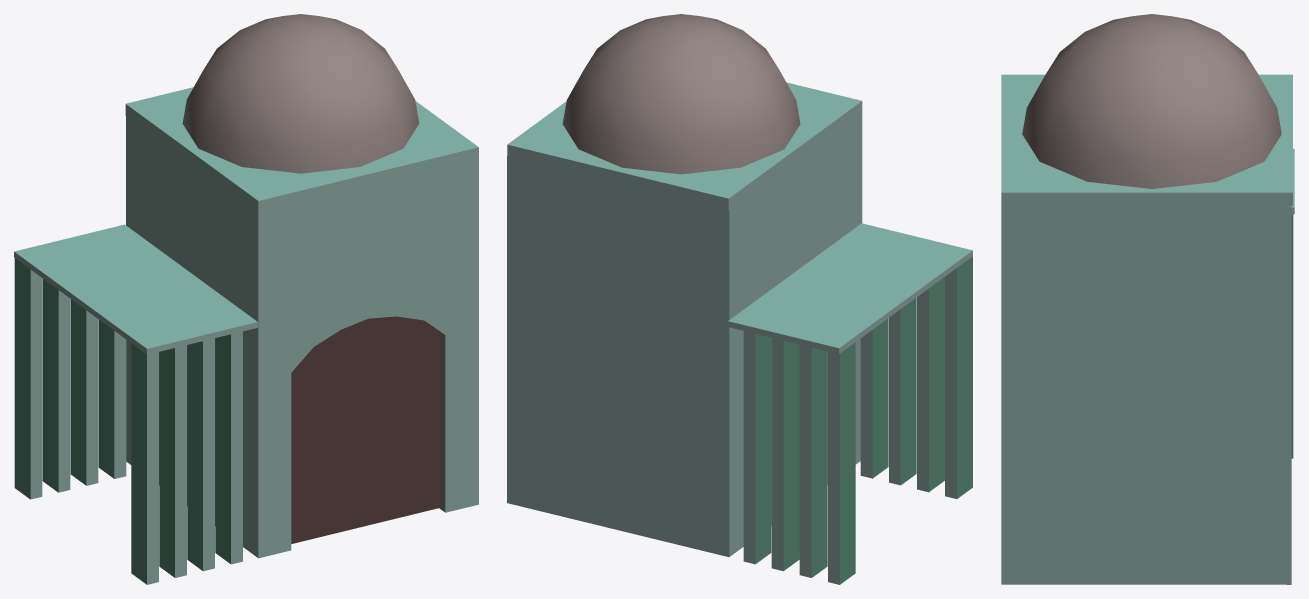
File: Test_Maison.FBX
3 renders of one model, left to right at view 1: azimuth 30°, elevation 25°; view 2: azimuth 150°, elevation 25°; view 3: azimuth 270°, elevation 25°, orthographic. The views are drawn at different scales.
Visible parts, largest first — view 1: Porte2x2_004, ToitSphere001, Mur1x003, Mur1x004, Dalle1x002, Dalle1x003, Pilier0,25x011, Pilier0,25x007, Pilier0,25x005, Pilier0,25x004, Pilier0,25x006, Pilier0,25x010 (+2 smaller); view 2: Mur1x005, ToitSphere001, Mur1x004, Dalle1x002, Dalle1x003, Pilier0,25x010, Pilier0,25x008, Pilier0,25x009, Pilier0,25x011, Pilier0,25x007, Pilier0,25x006, Pilier0,25x005 (+2 smaller); view 3: Mur1x006, ToitSphere001, Dalle1x003, Mur1x005, Pilier0,25x008.
Part boxes in pixels (x1,y1,x2,y2): Porte2x2_004: [255, 274, 478, 558]; ToitSphere001: [182, 14, 419, 173]; Mur1x003: [258, 159, 478, 327]; Mur1x004: [126, 116, 258, 557]; Dalle1x002: [14, 224, 257, 354]; Dalle1x003: [125, 87, 478, 212]; Pilier0,25x011: [14, 258, 42, 499]; Pilier0,25x007: [131, 343, 158, 584]; Pilier0,25x005: [187, 338, 214, 571]; Pilier0,25x004: [215, 331, 242, 564]; Pilier0,25x006: [159, 345, 186, 577]; Pilier0,25x010: [42, 278, 70, 492]; Mur1x005: [507, 156, 731, 556]; ToitSphere001: [562, 14, 800, 174]; Mur1x004: [725, 113, 862, 556]; Dalle1x002: [728, 223, 972, 353]; Dalle1x003: [507, 82, 862, 210]; Pilier0,25x010: [799, 344, 827, 577]; Pilier0,25x008: [743, 331, 771, 564]; Pilier0,25x009: [771, 338, 799, 571]; Pilier0,25x011: [828, 342, 855, 584]; Pilier0,25x007: [945, 256, 972, 498]; Pilier0,25x006: [917, 277, 944, 492]; Pilier0,25x005: [889, 297, 916, 485]; Mur1x006: [1001, 206, 1286, 584]; ToitSphere001: [1022, 14, 1281, 188]; Dalle1x003: [1001, 74, 1292, 205]; Mur1x005: [1286, 206, 1291, 584]; Pilier0,25x008: [1291, 214, 1293, 458].
Bounding box in the file's own units: 302 × 397 × 211.
